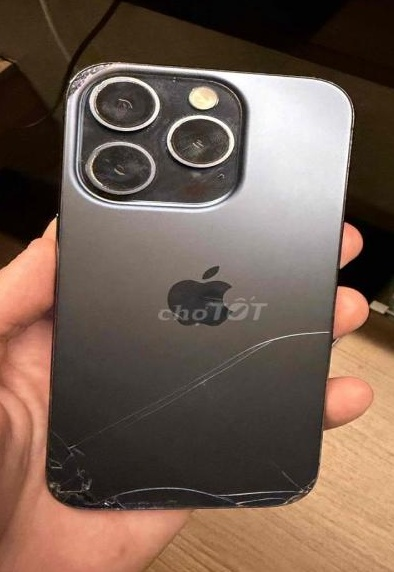physical_damage: (39, 306, 335, 513), (56, 50, 138, 109)
scratch: (48, 54, 244, 205)
